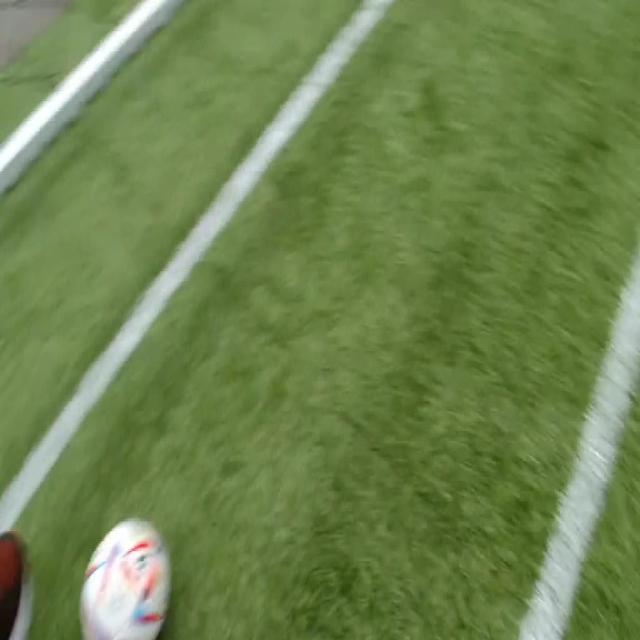ball: (80, 517, 171, 640)
